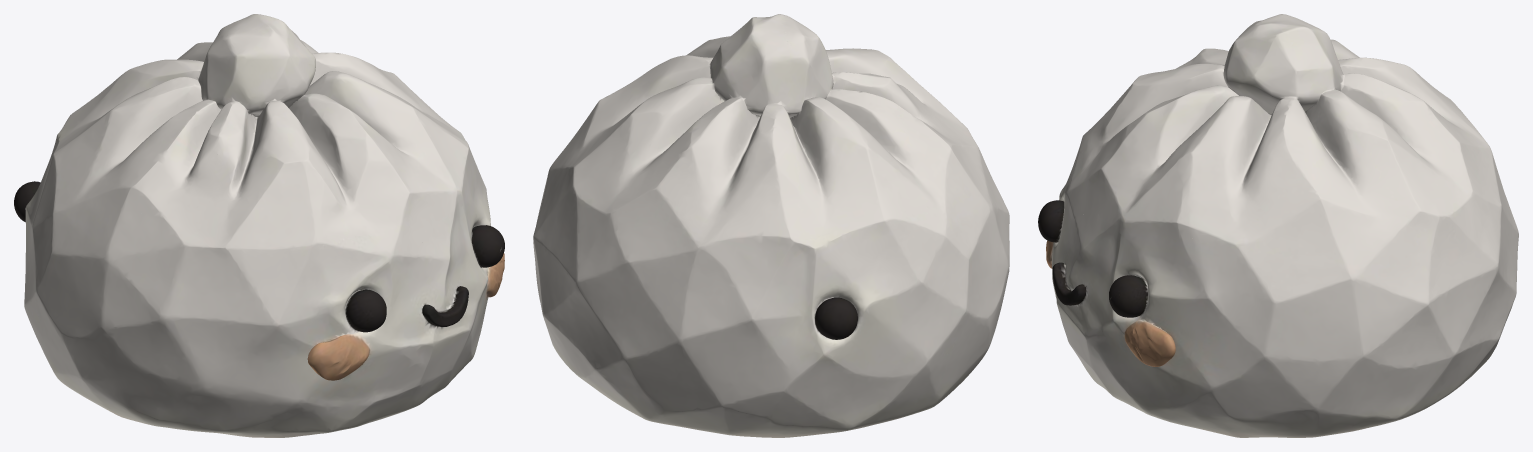
Rendered from tripo_convert_cb3987a5-b88a-455f-abbd-5539dfaff660.fbx.
The picture shows the model from 3 angles, left to right: view 1: azimuth 30°, elevation 25°; view 2: azimuth 150°, elevation 25°; view 3: azimuth 270°, elevation 25°; orthographic projection.
Visible parts, largest first — view 1: tripo_node_cb3987a5; view 2: tripo_node_cb3987a5; view 3: tripo_node_cb3987a5.
Boxes of the visible parts, x1,y1,x2,y2 form: tripo_node_cb3987a5: (14, 14, 504, 437); tripo_node_cb3987a5: (533, 14, 1009, 437); tripo_node_cb3987a5: (1038, 14, 1518, 437).
Size of the model in its own units: 1 by 0.7924 by 0.9998.
1 material, 1 textured.
